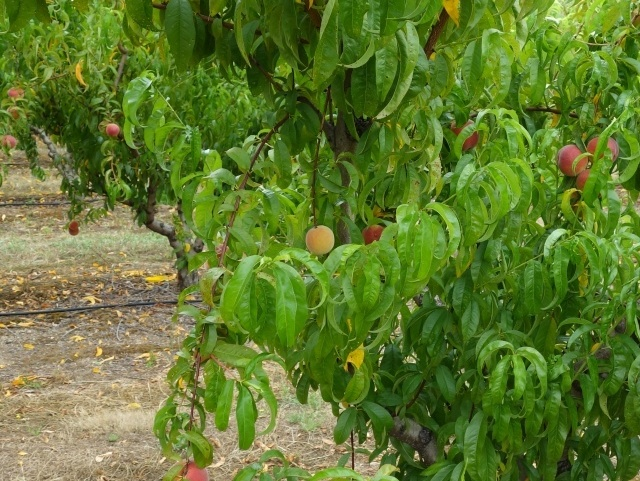peach: (582, 132, 623, 166), (551, 141, 589, 176), (302, 223, 338, 258), (449, 116, 482, 154), (170, 459, 213, 481), (357, 219, 387, 247), (573, 160, 600, 190), (102, 121, 121, 142)
